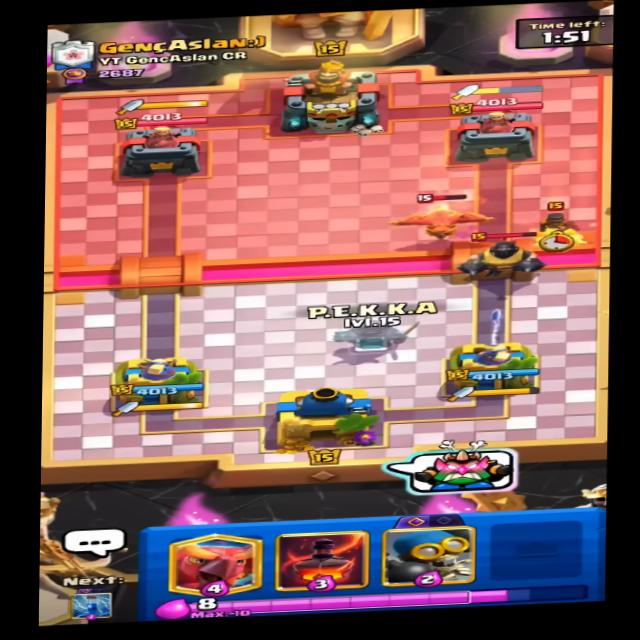mega-knight: (453, 229, 554, 287)
phoenix: (378, 188, 502, 241)
ram-rider: (528, 195, 590, 253)
